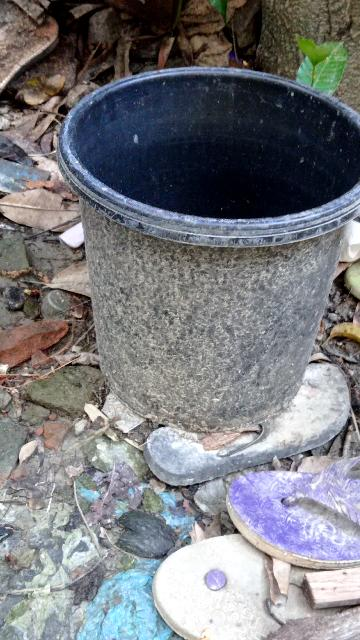hardplastic: (56, 90, 360, 428)
